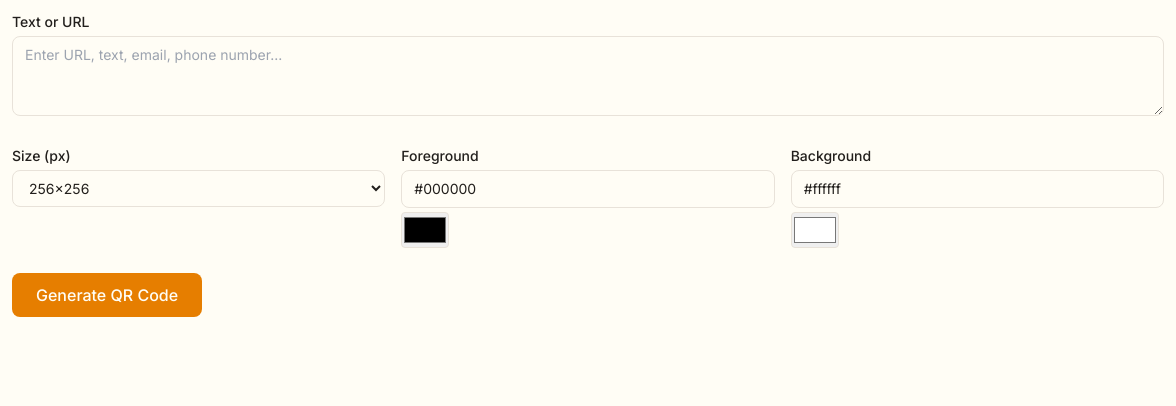
QrCodeGenerator › shows error for empty input
Click the button "Generate QR Code" at (107, 295), box 12,273 -> 202,317
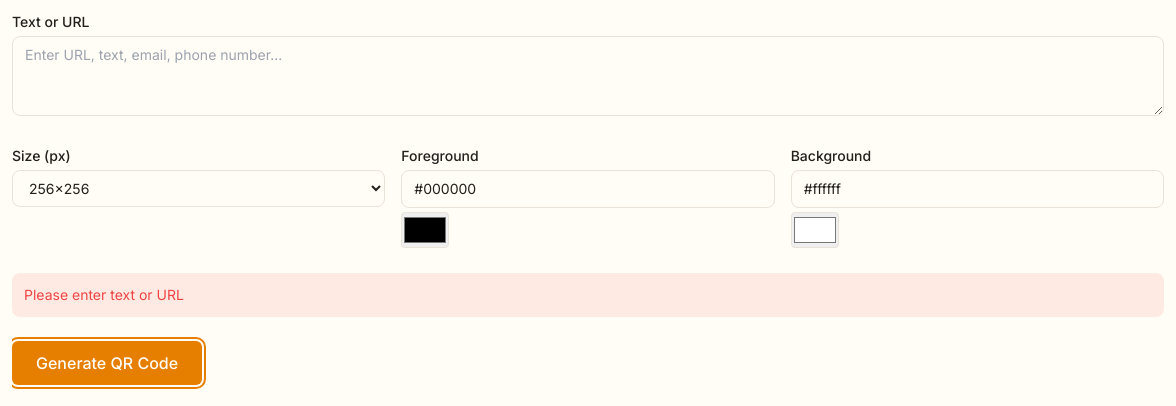
Now the text "Please enter text or URL" is shown, box 12,273 -> 1164,317
